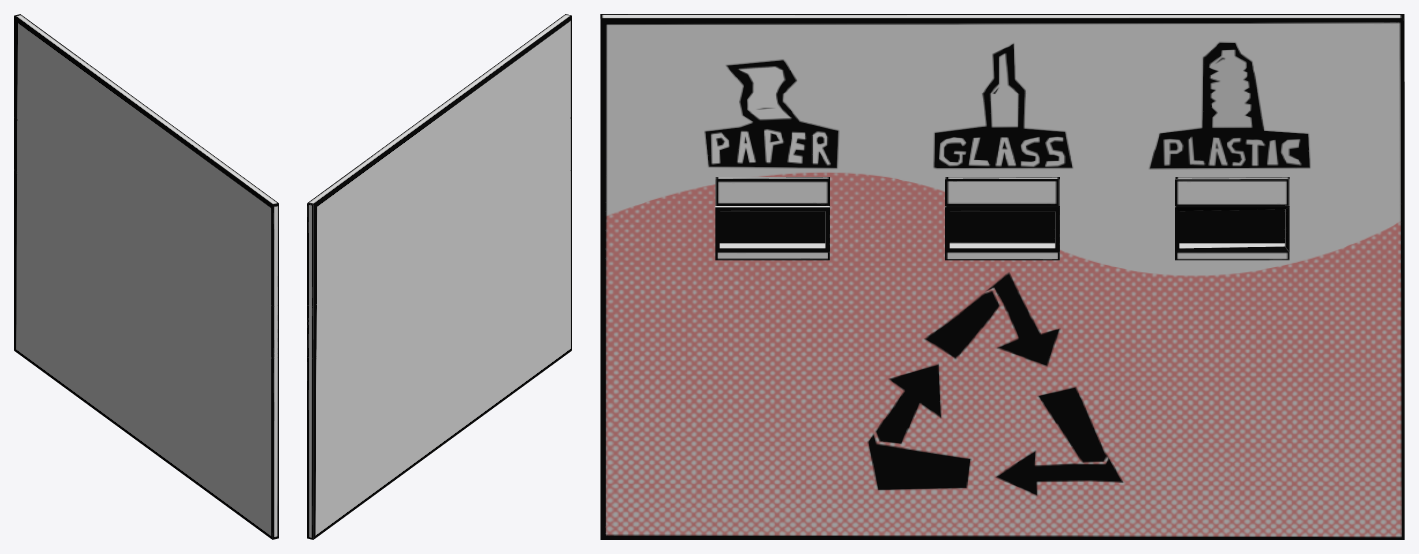
The model's file is dumpster.glb.
3 views of the same model, side by side, from view 1: azimuth 30°, elevation 25°; view 2: azimuth 150°, elevation 25°; view 3: azimuth 270°, elevation 25° (orthographic). The views are drawn at different scales.
Visible parts, largest first — view 1: Dumpster; view 2: Dumpster; view 3: Dumpster.
Boxes of the visible parts, left/top/right/bottom form: Dumpster: left=14, top=14, right=278, bottom=539; Dumpster: left=307, top=14, right=571, bottom=539; Dumpster: left=600, top=14, right=1404, bottom=539.
Size of the model in its own units: 0.0661 by 2 by 2.8.
1 material, 1 textured.
